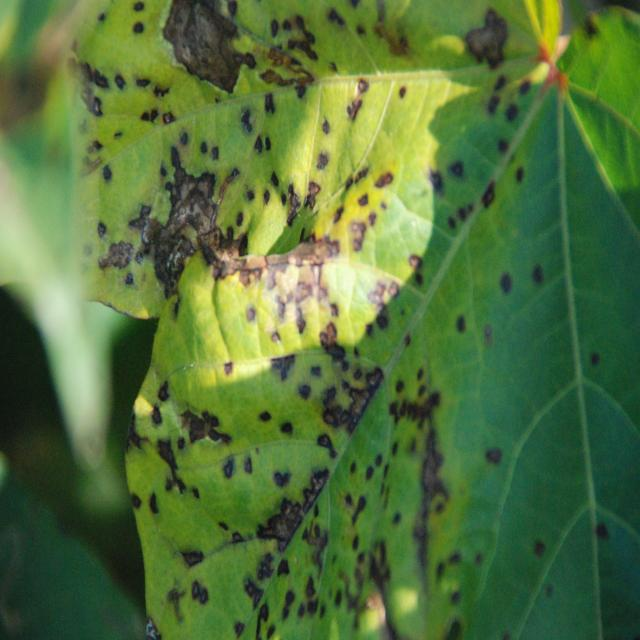Bacterial Blight: (118, 120, 564, 343), (254, 360, 474, 628)
